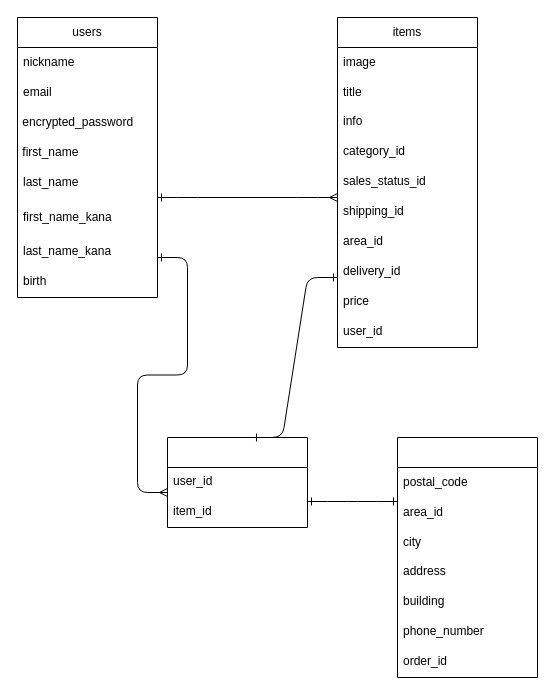
This 555x698 diagram has some shape labels left out. The box of each missing label's shape, as (x1, y1, x2, y2) in pixels:
deliverys: (396, 436, 538, 678)
orders: (166, 436, 308, 528)
